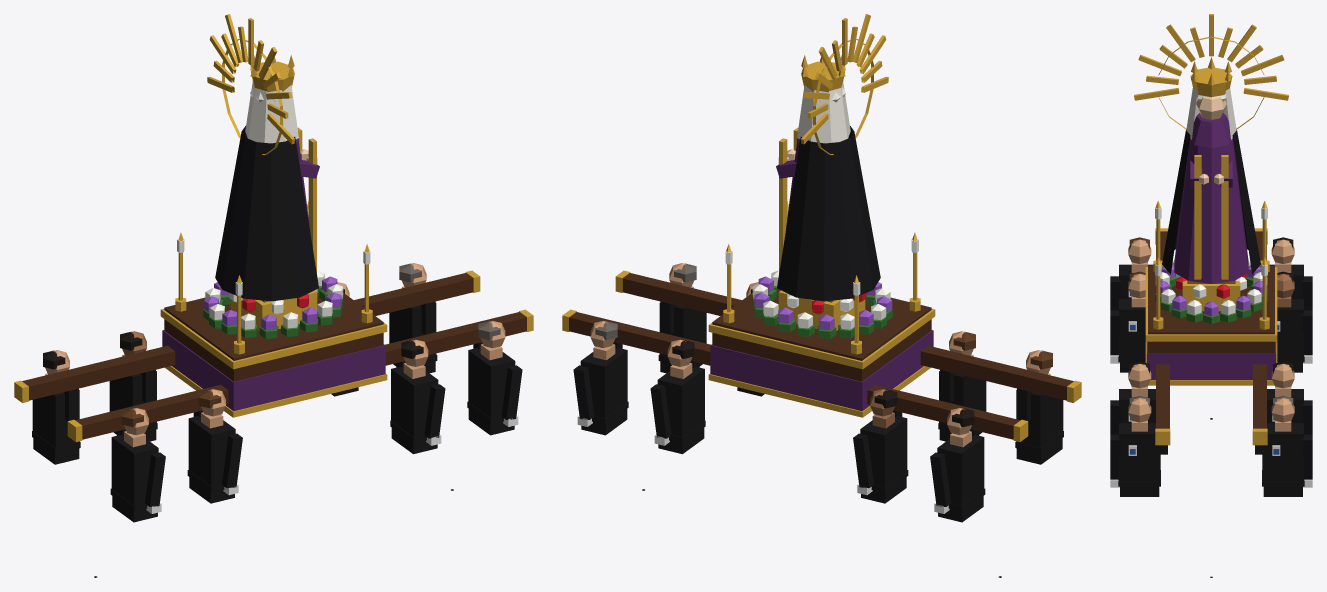
The model's file is anda_dolores_body.obj.
The picture shows the model from 3 angles, left to right: view 1: azimuth 30°, elevation 25°; view 2: azimuth 150°, elevation 25°; view 3: azimuth 270°, elevation 25°; orthographic projection. The views are drawn at different scales.
Visible parts, largest first — view 1: anda_dolores_body; view 2: anda_dolores_body; view 3: anda_dolores_body.
Boxes of the visible parts, box(x1,y1,x2,y2) form: anda_dolores_body: box(14, 14, 533, 577); anda_dolores_body: box(562, 14, 1081, 577); anda_dolores_body: box(1110, 14, 1312, 577).
Bounding box in the file's own units: 4.16 × 4.51 × 1.75.
